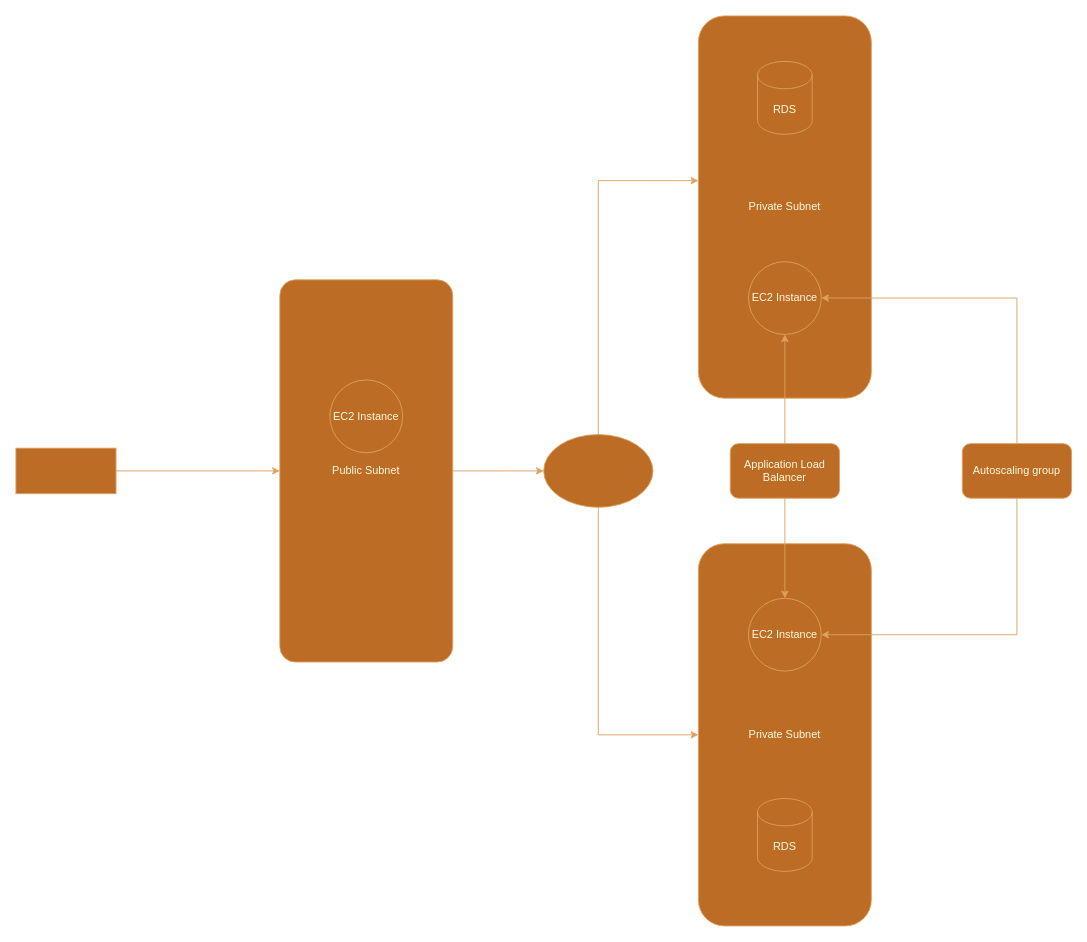
Some shapes in this 1087 by 942 pixel diagram are drawn without their labels. The centre of each missing label's shape, as x and y in pixels:
Security Group: the point at 598,470
User: the point at 65,470
